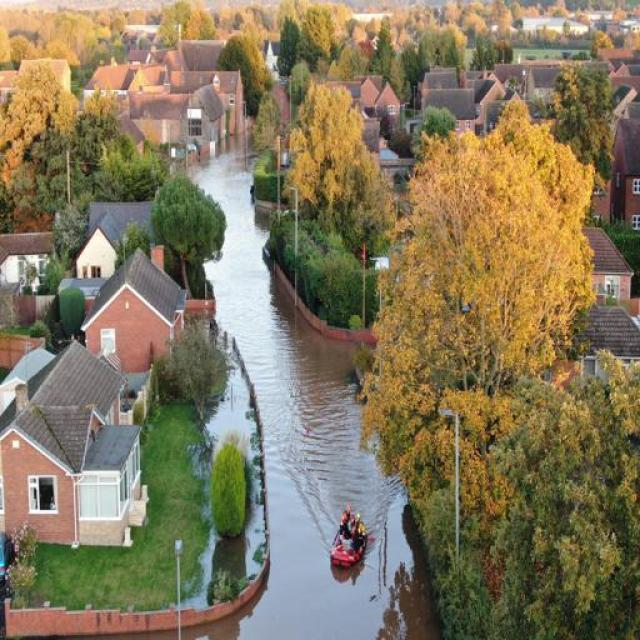puddle: (251, 325, 325, 640), (224, 155, 285, 448), (318, 368, 374, 501)
